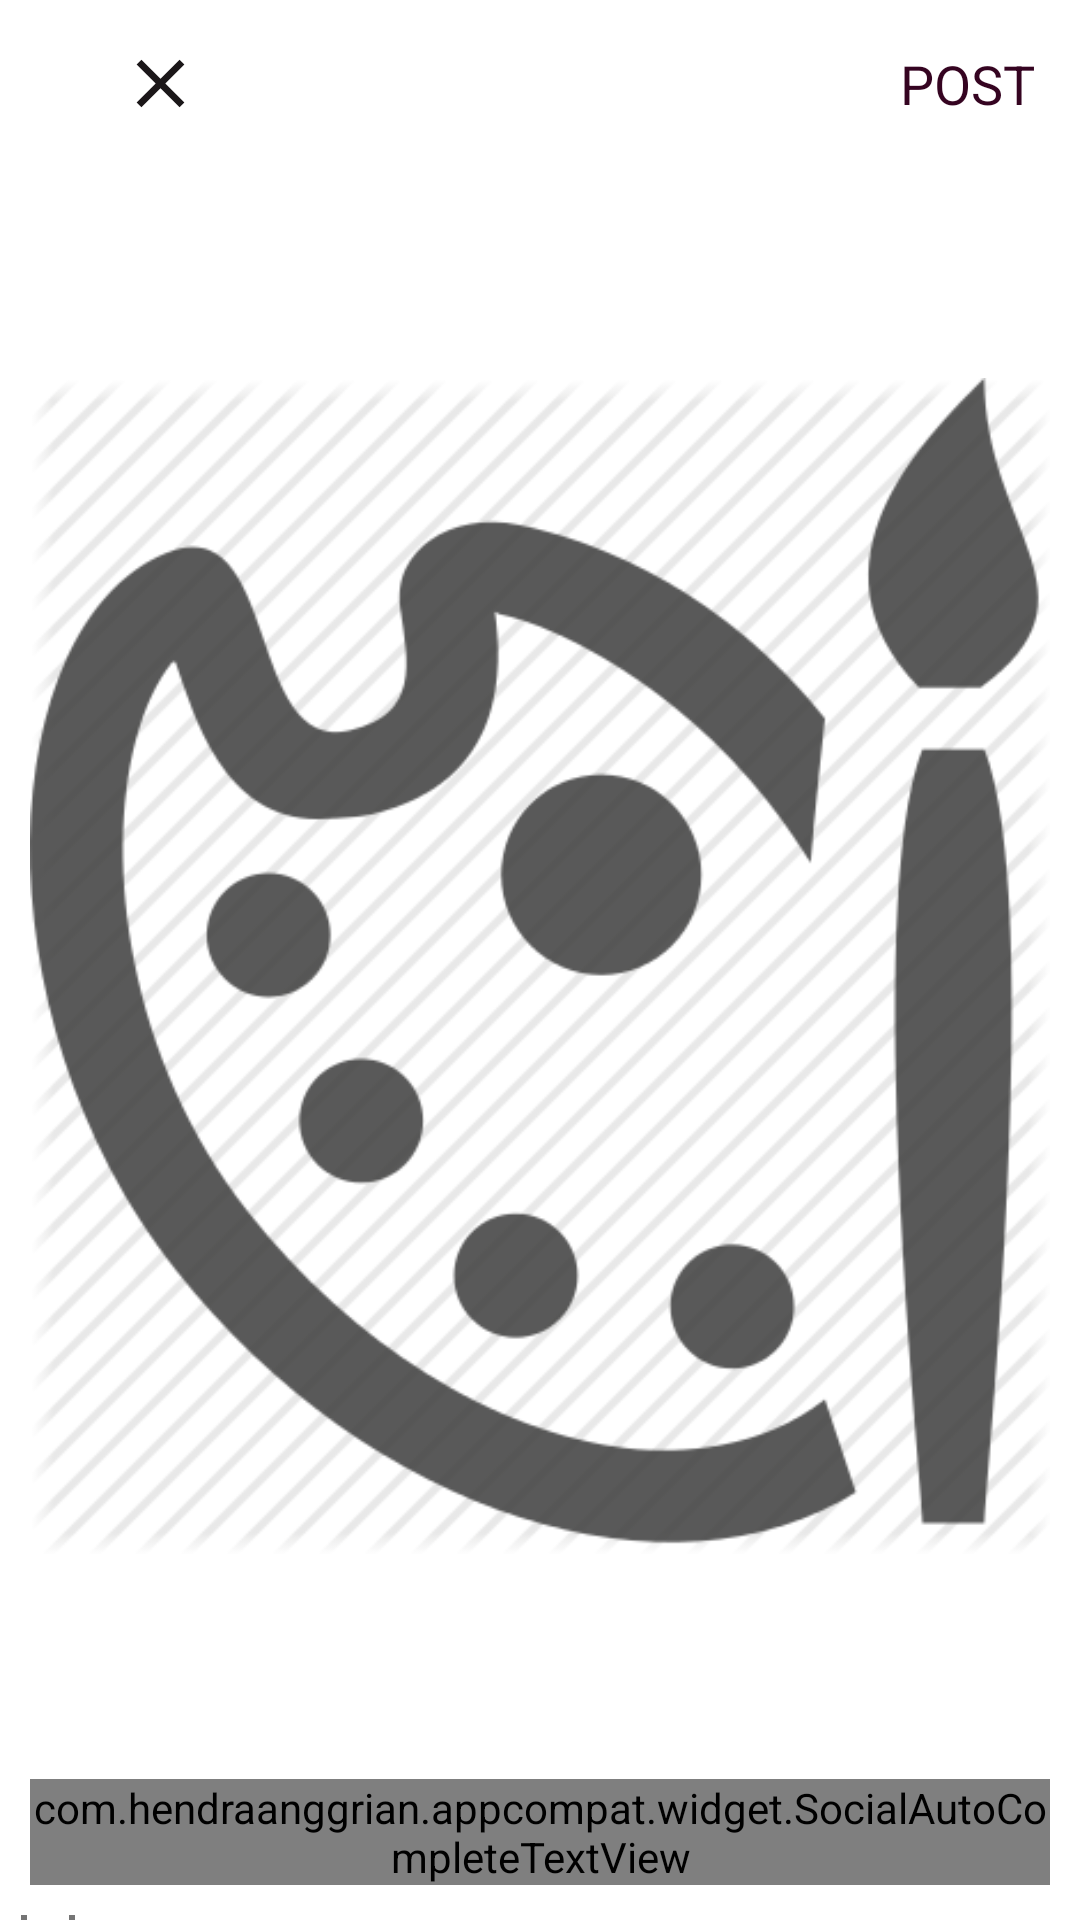

Screen size 1080px×1920px. Icon name, then its center in pixels as point (x, y):
close: point (160, 83)
